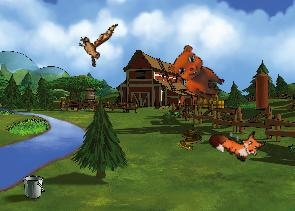bear: (163, 41, 233, 104)
eagle: (74, 17, 118, 70)
fox: (206, 114, 268, 169)
